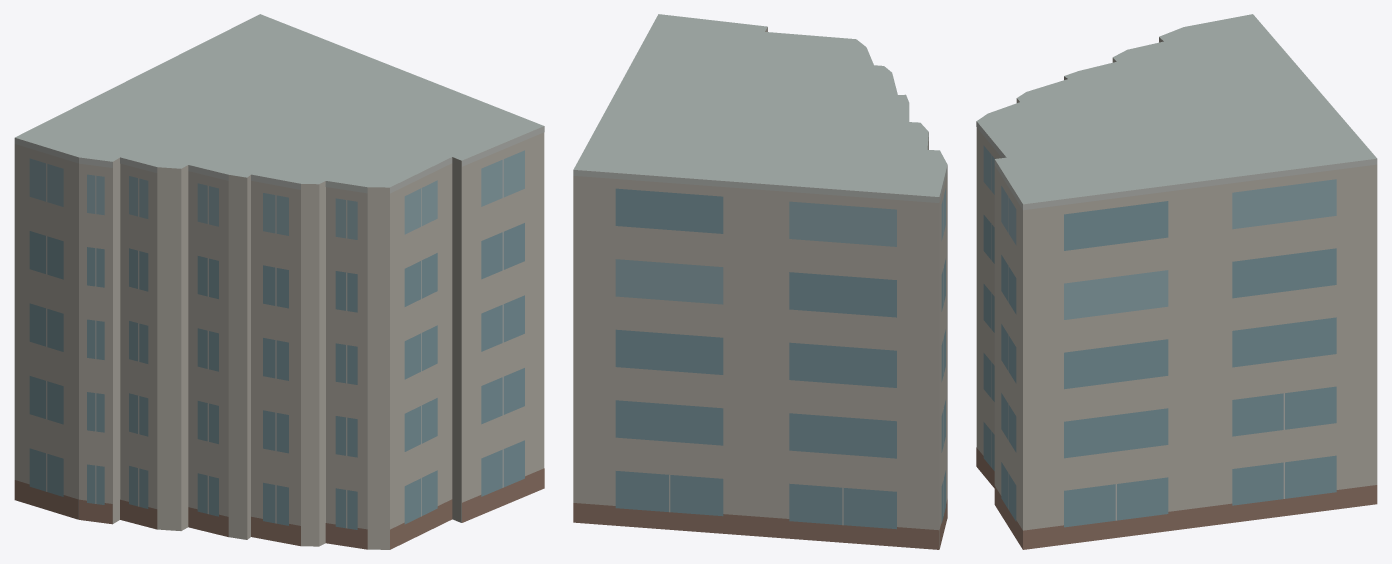
File: survey-upis-32777154.glb
3 renders of one model, left to right at view 1: azimuth 30°, elevation 25°; view 2: azimuth 150°, elevation 25°; view 3: azimuth 270°, elevation 25°, orthographic. The views are drawn at different scales.
Parts seen in each view (by area): view 1: survey-upis-32777154.tmp; view 2: survey-upis-32777154.tmp; view 3: survey-upis-32777154.tmp.
Boxes of the visible parts, bbox=[...] form: survey-upis-32777154.tmp: bbox=[14, 14, 544, 549]; survey-upis-32777154.tmp: bbox=[573, 14, 947, 549]; survey-upis-32777154.tmp: bbox=[976, 14, 1377, 549].
Bounding box in the file's own units: 16.91 × 14.3 × 15.04.
